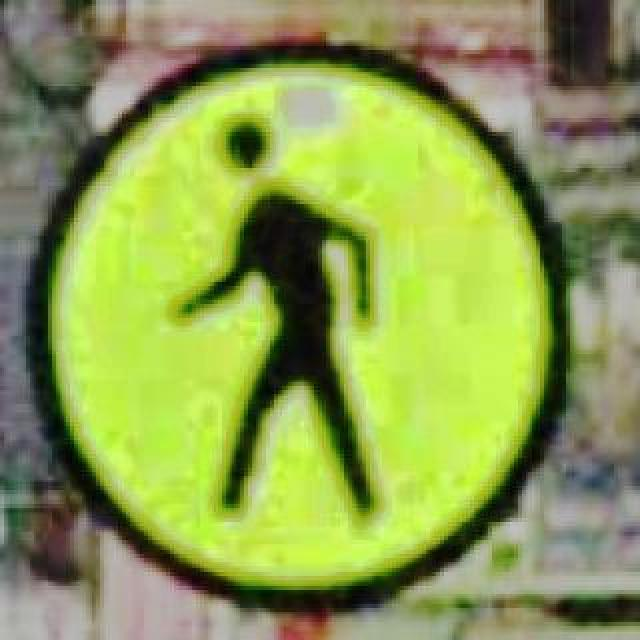pedestrian crossing: (26, 38, 574, 618)
